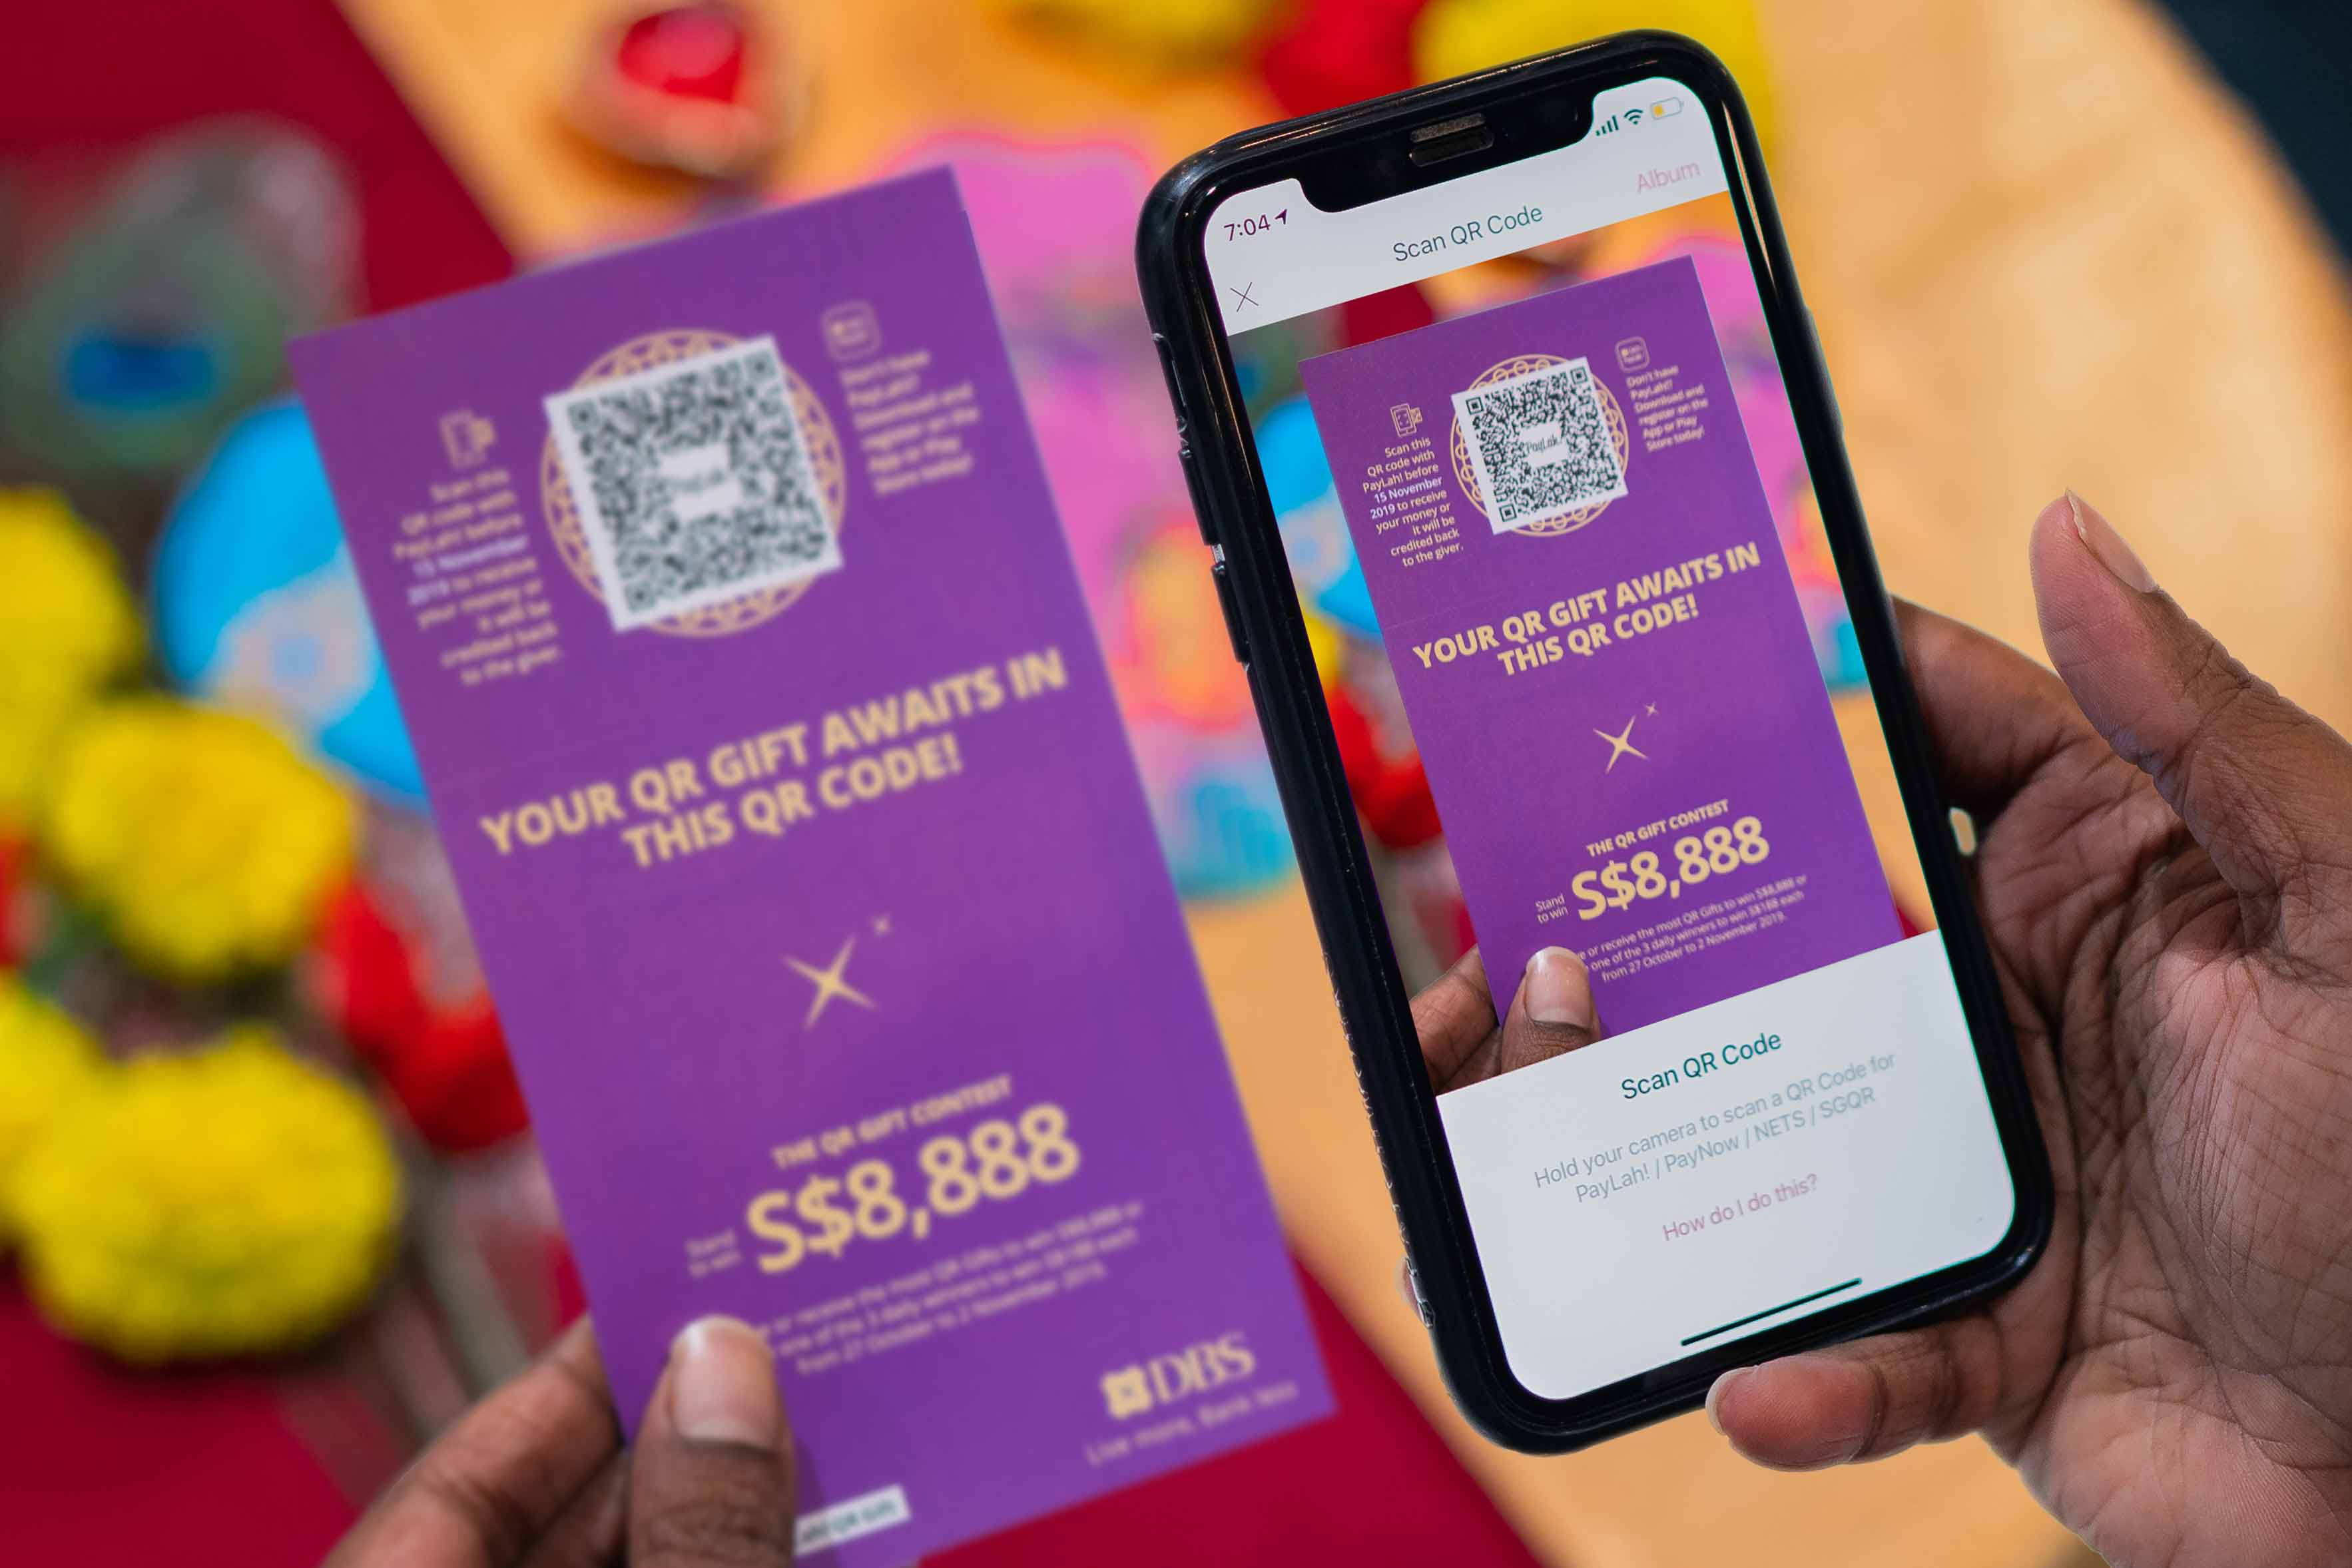qr_code: (527, 338, 856, 619), (1437, 353, 1638, 537)
